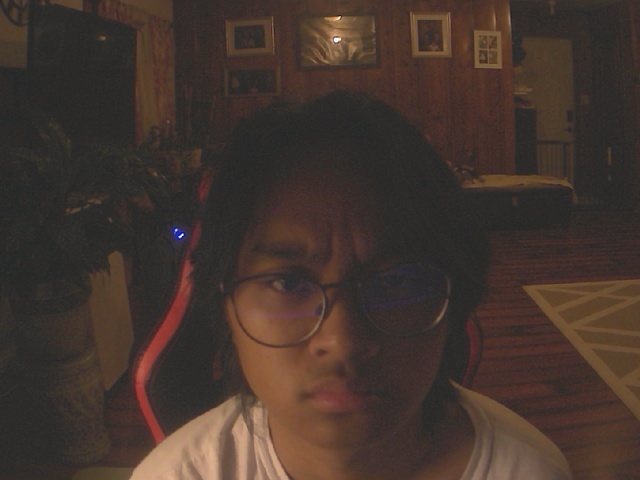anger: (189, 81, 491, 441)
